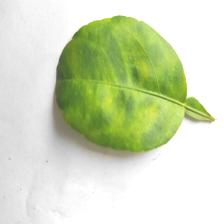greening: (78, 44, 160, 131)
